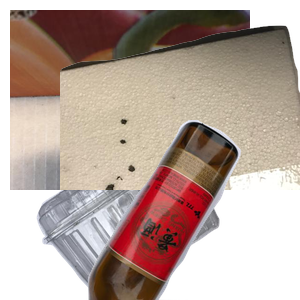cardboard: (10, 10, 250, 190)
glass: (85, 120, 300, 300)
plastic: (34, 130, 246, 300)
trash: (60, 23, 300, 203)
